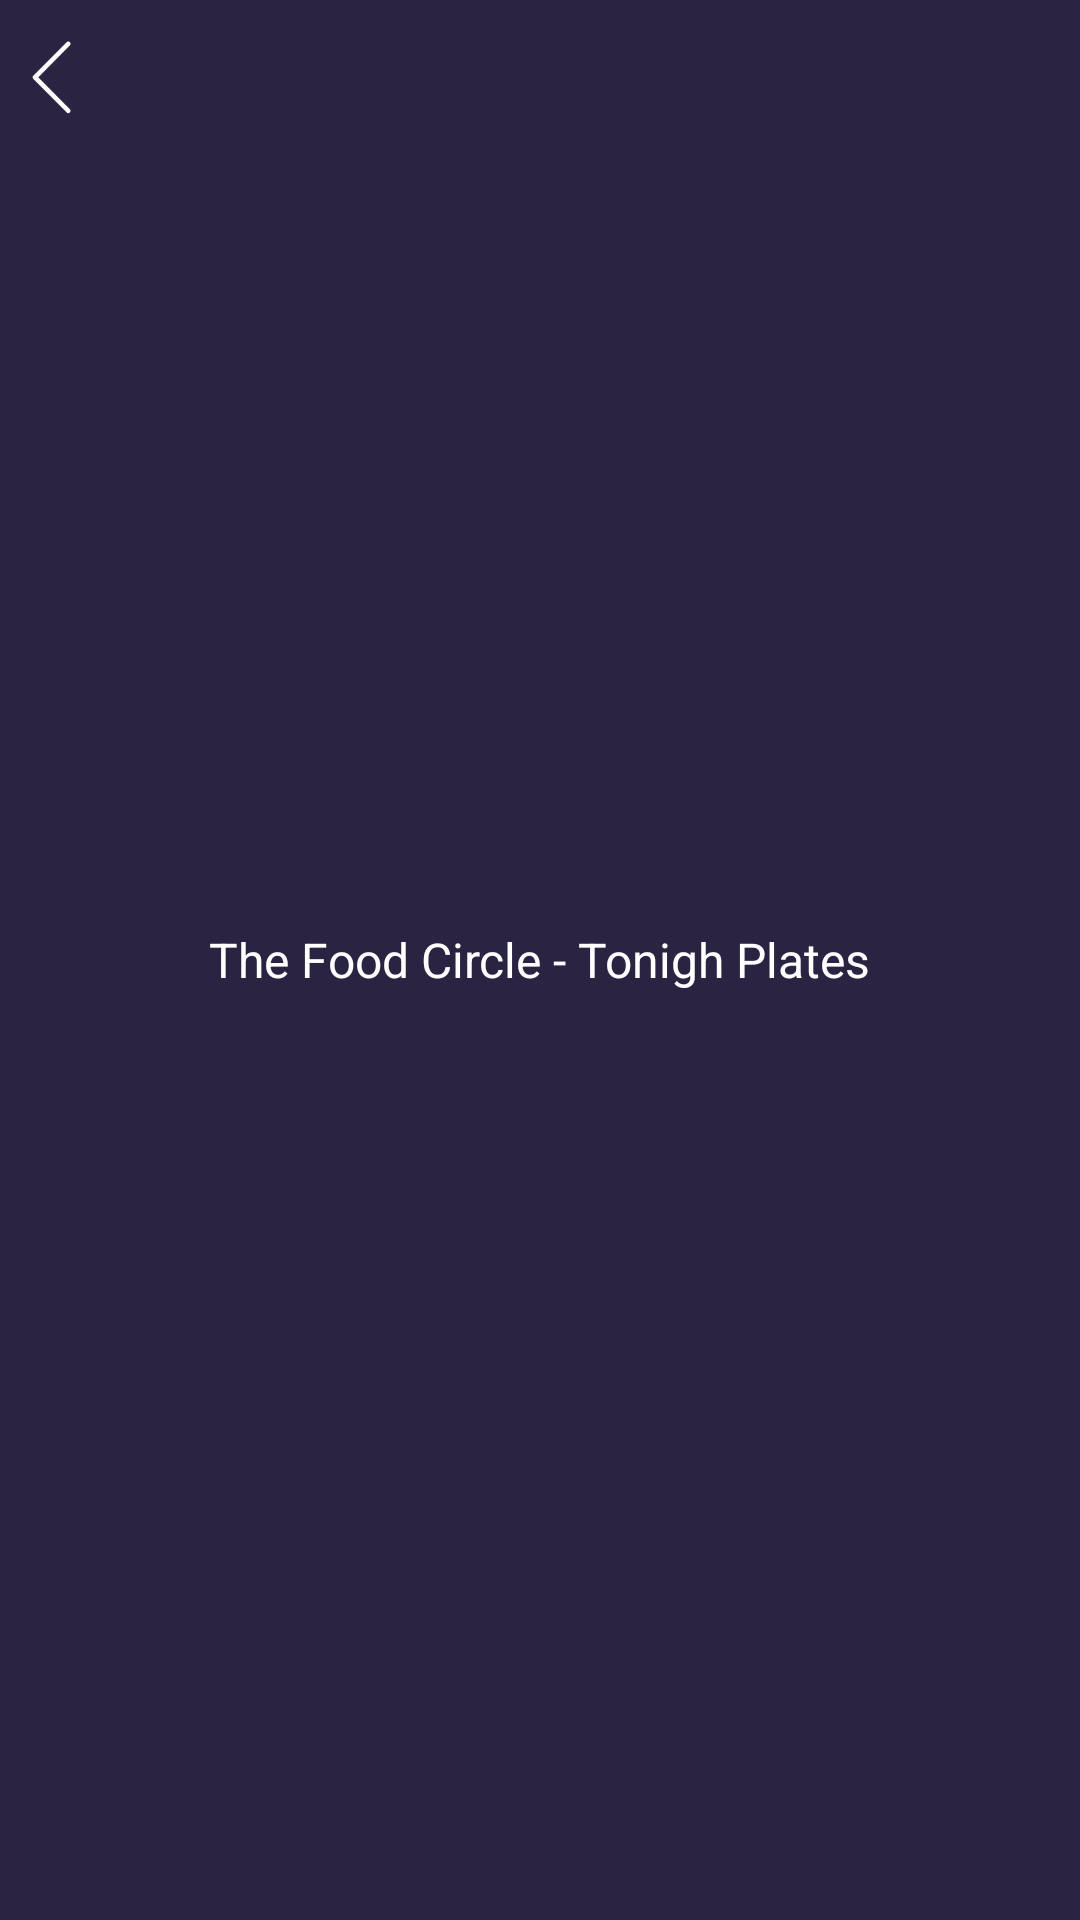

Locate icon controls on the screen. Image size 1080x1920, boxes as (x1,y1,x2,y2).
back: (32,41,71,114)
